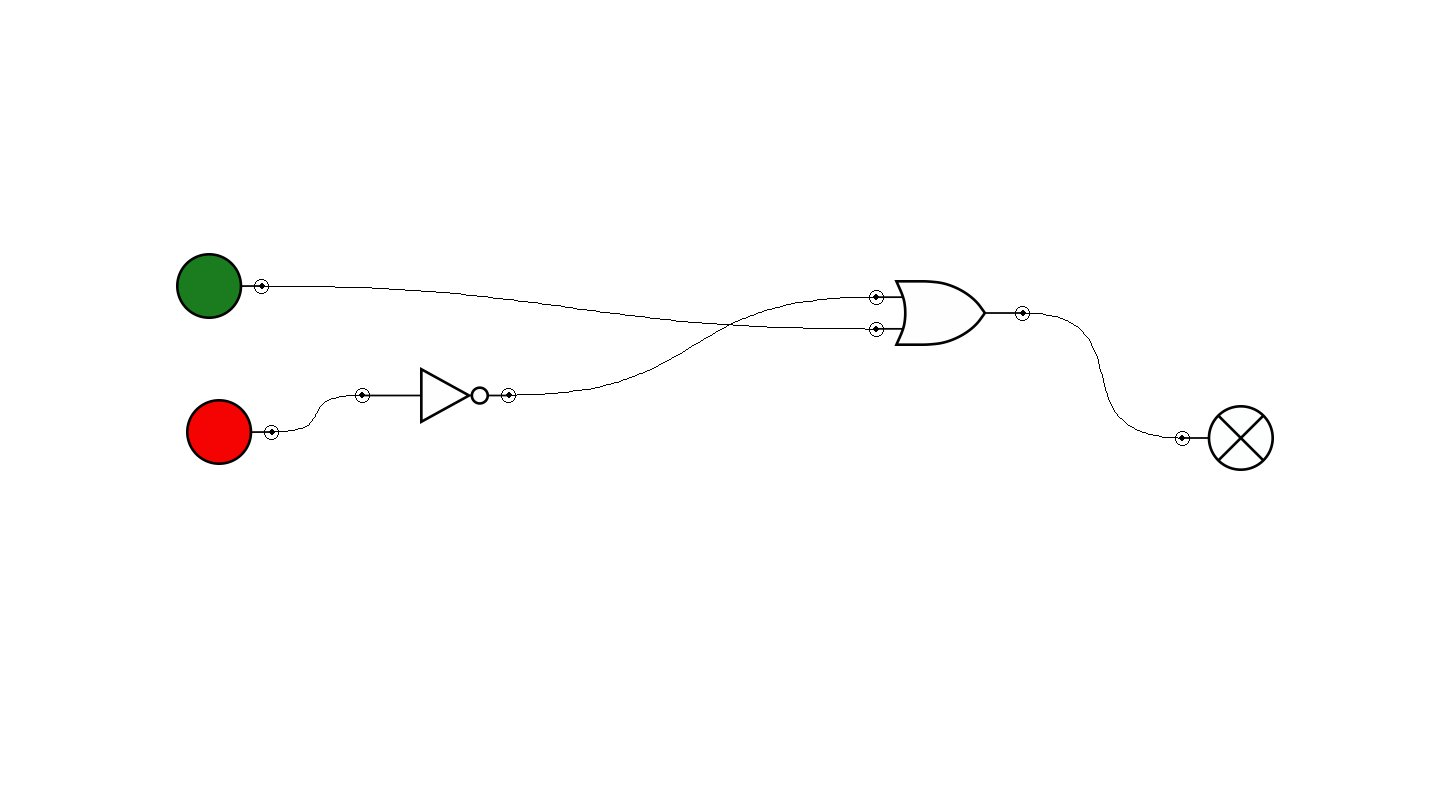bulb: (1175, 405, 1274, 471)
not: (355, 367, 516, 424)
or: (869, 280, 1030, 346)
switch_False: (186, 399, 279, 465)
switch_True: (176, 253, 269, 319)
